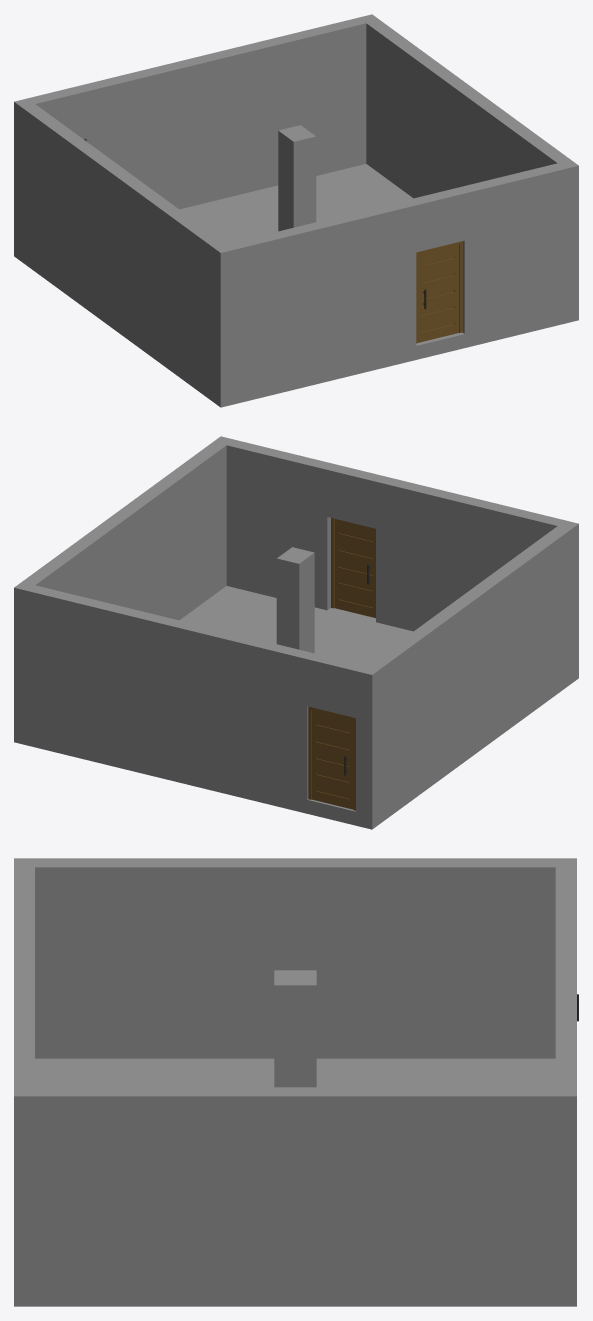
File: MSH_Room_Quad_Damaged_02.fbx
3 views of the same model, one above another, from view 1: azimuth 30°, elevation 25°; view 2: azimuth 150°, elevation 25°; view 3: azimuth 270°, elevation 25° (orthographic). The views are drawn at different scales.
Visible parts, largest first — view 1: MSH_Room_Quad_Damaged_02, MSH_Door_Single012, MSH_DoorFrame_Single012; view 2: MSH_Room_Quad_Damaged_02, MSH_Door_Single007, MSH_Door_Single012, MSH_DoorFrame_Single007; view 3: MSH_Room_Quad_Damaged_02.
Part boxes in pixels (bbox=[...]): MSH_Room_Quad_Damaged_02: bbox=[14, 14, 578, 407]; MSH_Door_Single012: bbox=[417, 244, 458, 342]; MSH_DoorFrame_Single012: bbox=[416, 241, 462, 343]; MSH_Room_Quad_Damaged_02: bbox=[14, 436, 578, 829]; MSH_Door_Single007: bbox=[311, 711, 353, 809]; MSH_Door_Single012: bbox=[334, 519, 375, 617]; MSH_DoorFrame_Single007: bbox=[308, 706, 355, 810]; MSH_Room_Quad_Damaged_02: bbox=[14, 858, 576, 1306].
Bounding box in the file's own units: 315 × 130 × 316.
